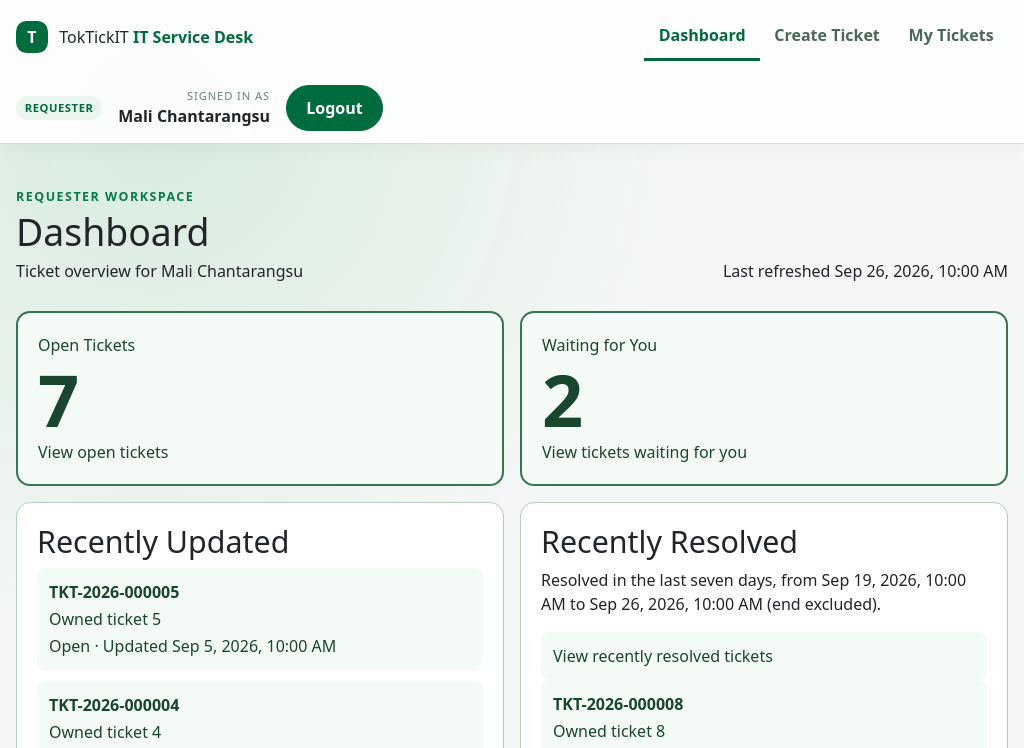
Scenario: Requester Dashboard › uses the exact backend resolution window in the My Tickets drill-down
Click the link "View recently resolved tickets": (764, 656) [541, 632, 987, 680]
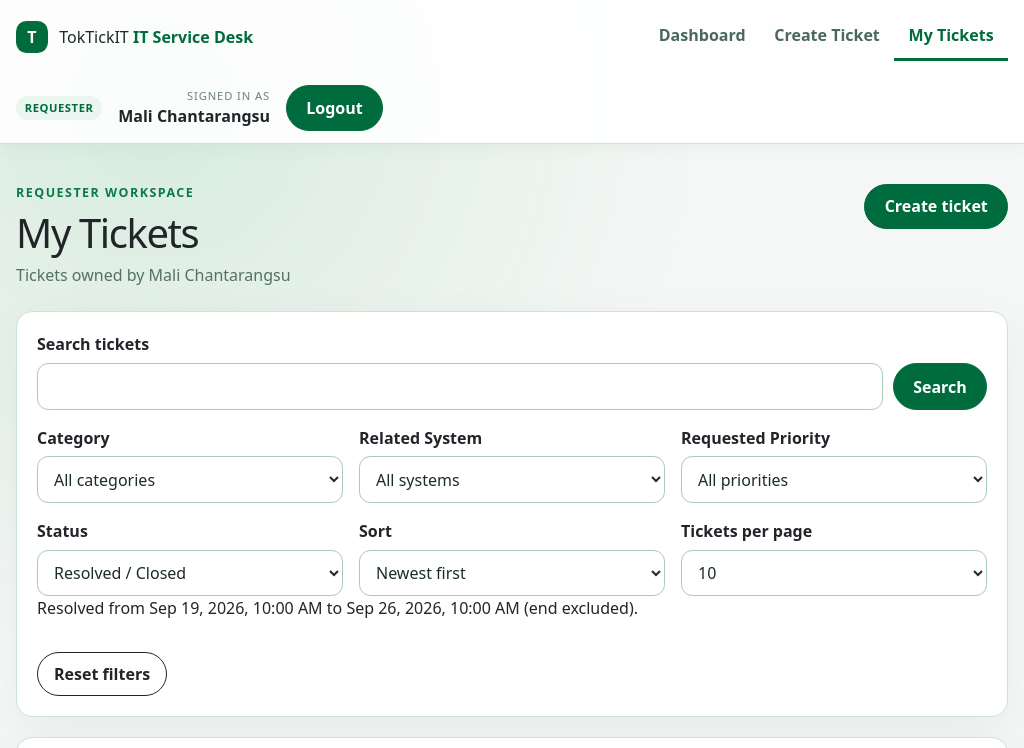
expect the dropdown labelled "Status" shows "Resolved / Closed": met, box [37, 550, 343, 596]
